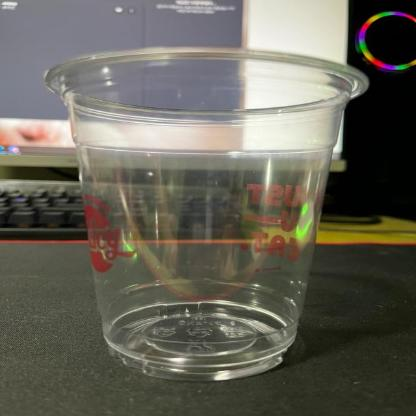Plastic Cup: (40, 45, 368, 383)
